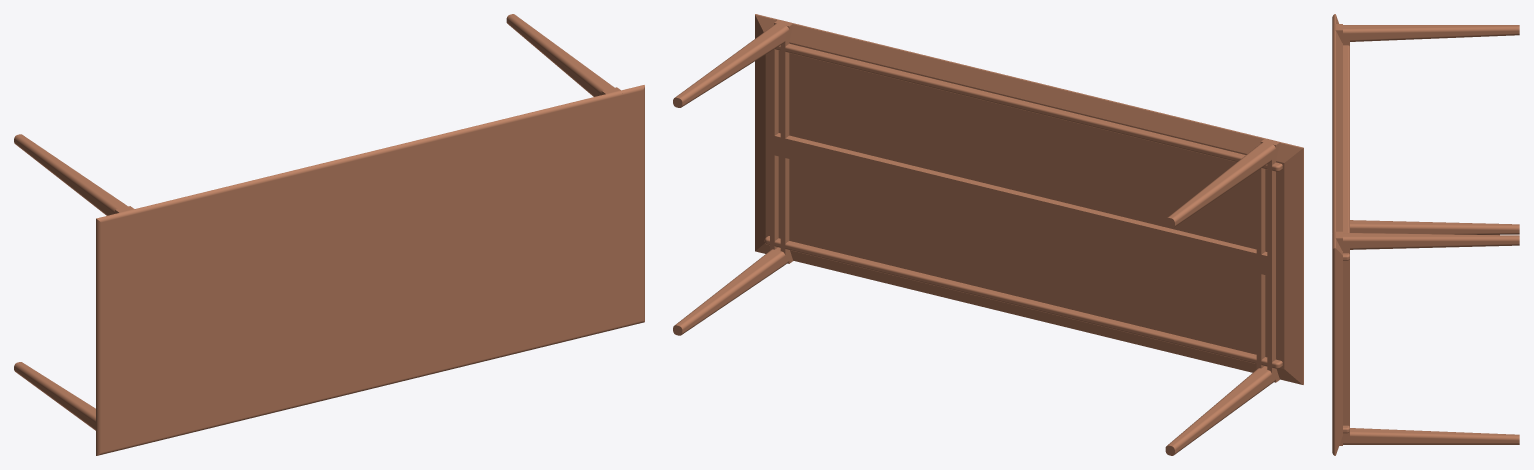
3 views of the same model, side by side, from view 1: azimuth 30°, elevation 25°; view 2: azimuth 150°, elevation 25°; view 3: azimuth 270°, elevation 25° (orthographic). The views are drawn at different scales.
Parts seen in each view (by area): view 1: Body1, Body1:3, Body1:5, Body1:1; view 2: Body1, Body1:7, Body1:8, Body1:9, Body1:5, Body1:4, Body1:3, Body1:1, Body1:6, Body2, Body1:2, Body2:1; view 3: Body1, Body1:5, Body1:3, Body1:4, Body1:1, Body1:9, Body2:1.
Part boxes in pixels (x1,y1,x2,y2): Body1: [96, 85, 644, 455]; Body1:3: [14, 134, 136, 228]; Body1:5: [506, 14, 622, 109]; Body1:1: [14, 362, 136, 449]; Body1: [755, 14, 1303, 384]; Body1:7: [774, 133, 1275, 275]; Body1:8: [764, 236, 1282, 368]; Body1:9: [775, 43, 1282, 171]; Body1:5: [673, 19, 793, 107]; Body1:4: [673, 247, 793, 335]; Body1:3: [1165, 138, 1279, 228]; Body1:1: [1165, 366, 1279, 455]; Body1:6: [780, 25, 789, 264]; Body2: [1267, 144, 1275, 383]; Body1:2: [1256, 142, 1265, 369]; Body2:1: [770, 23, 778, 250]; Body1: [1332, 14, 1342, 455]; Body1:5: [1332, 231, 1519, 250]; Body1:3: [1332, 24, 1519, 43]; Body1:4: [1339, 428, 1519, 445]; Body1:1: [1350, 220, 1519, 234]; Body1:9: [1343, 45, 1349, 260]; Body2:1: [1343, 236, 1349, 444].
Size of the model in its own units: 235 by 97.2 by 79.5.
